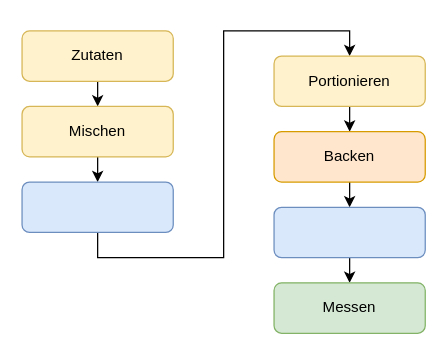
The diagram is 447 pixels wide and 355 high, and some of its shapes have lost their labels. Here are the shapes that lost their labels. From the top down, the centre of each, then its label:
At point (97, 206): "Kühlung".
At point (349, 232): "Abkühlen".
